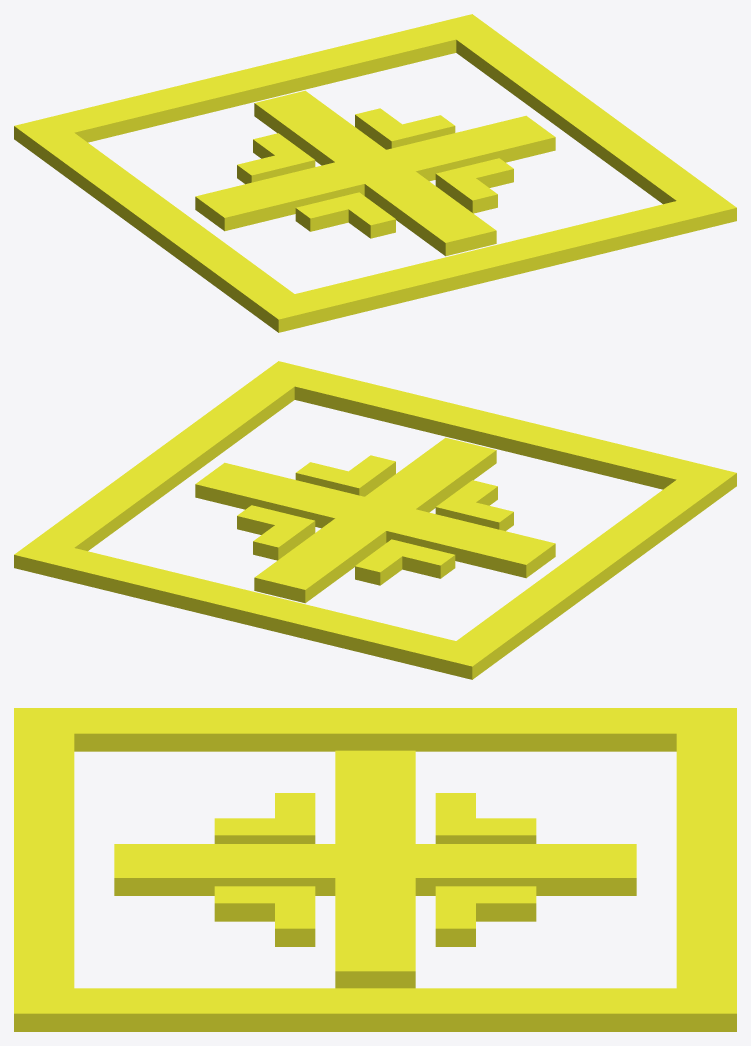
The model's file is towerPlate1-0.obj.
The picture shows the model from 3 angles, top to bottom: view 1: azimuth 30°, elevation 25°; view 2: azimuth 150°, elevation 25°; view 3: azimuth 270°, elevation 25°; orthographic projection. The views are drawn at different scales.
Size of the model in its own units: 3.6 by 0.1 by 3.6.
1 material, 1 textured.
